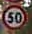limite 50: (0, 3, 26, 29)
